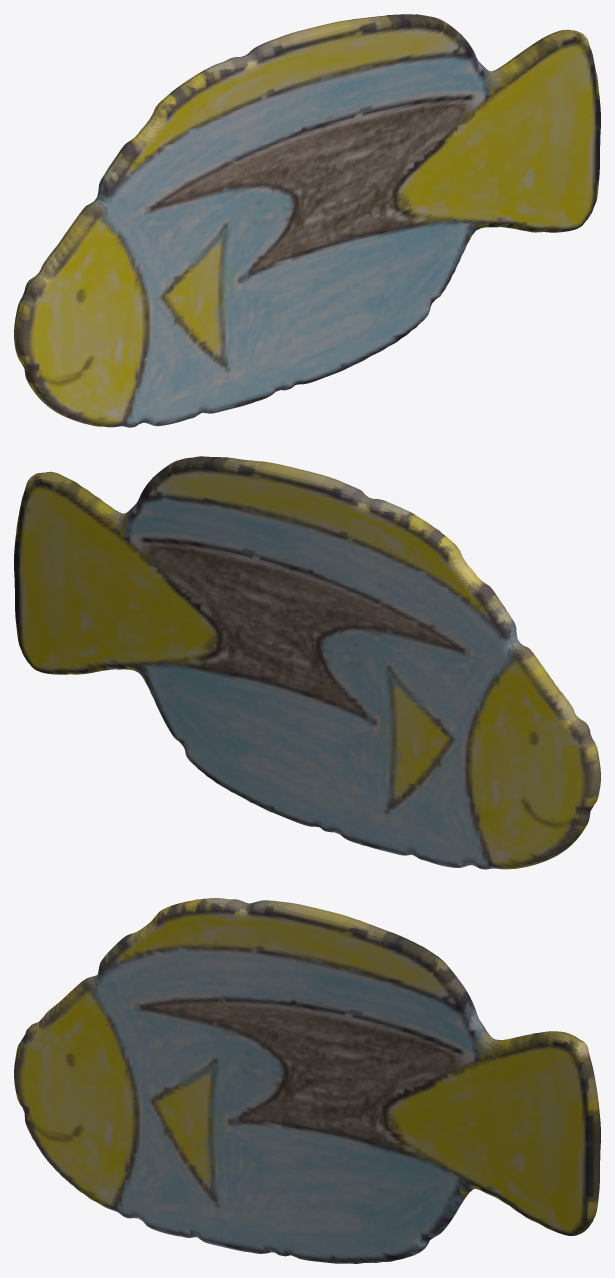
File: blue_tang.gltf
3 renders of one model, top to bottom at view 1: azimuth 30°, elevation 25°; view 2: azimuth 150°, elevation 25°; view 3: azimuth 330°, elevation 25°, orthographic.
Size of the model in its own units: 0.3331 by 0.1958 by 0.0102.
